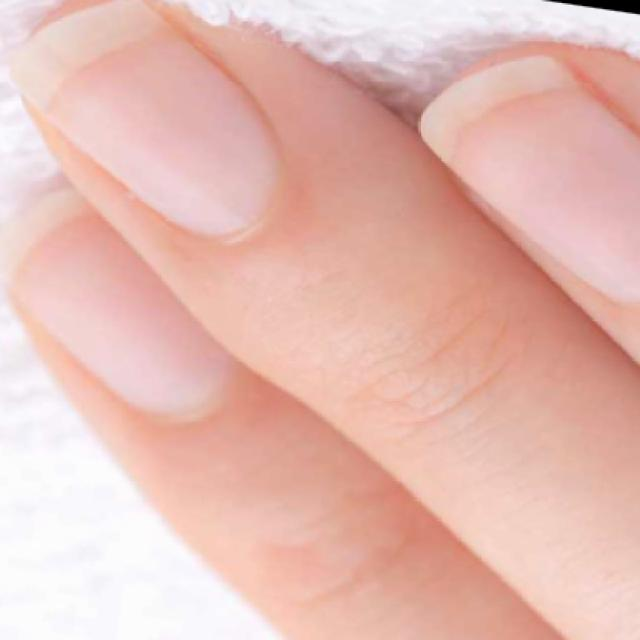Nail: (8, 4, 273, 226), (420, 56, 640, 302), (0, 189, 226, 417)
